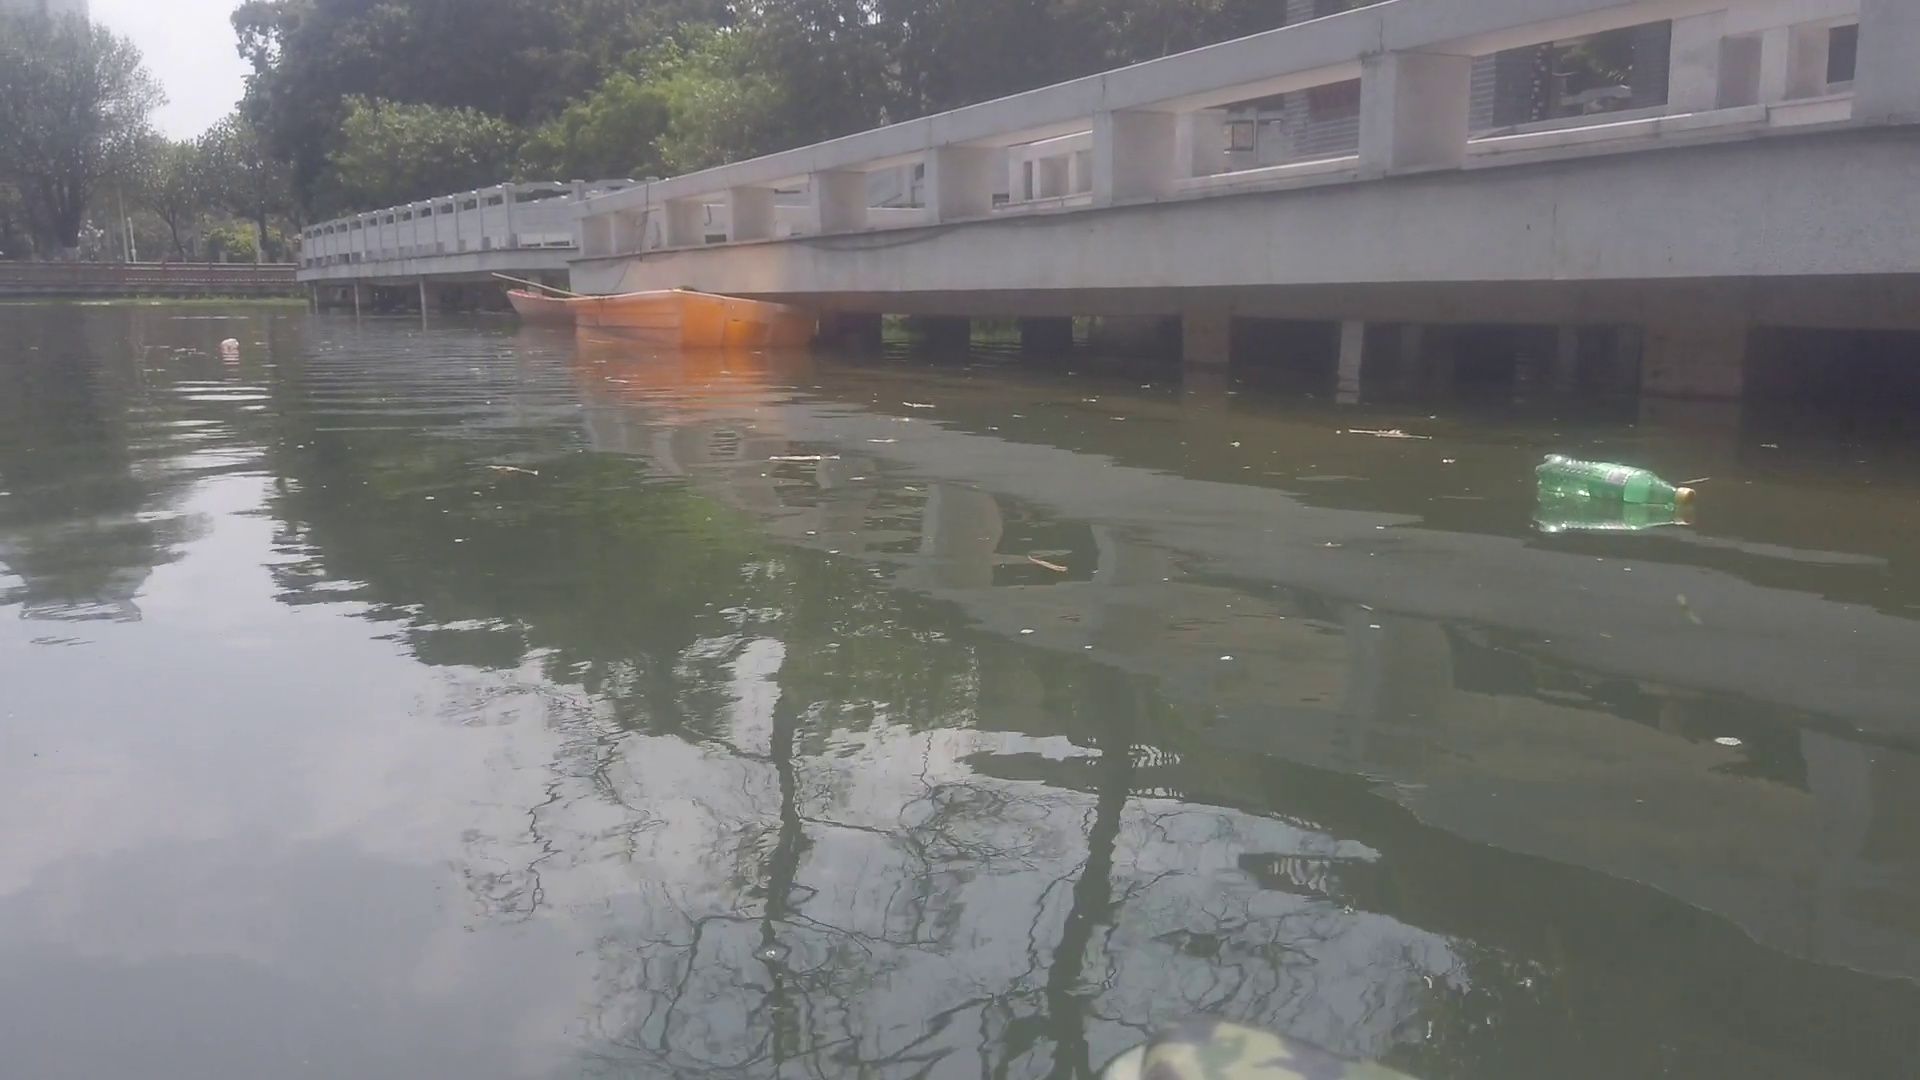bottle: (1534, 443, 1706, 520), (220, 334, 240, 349)
